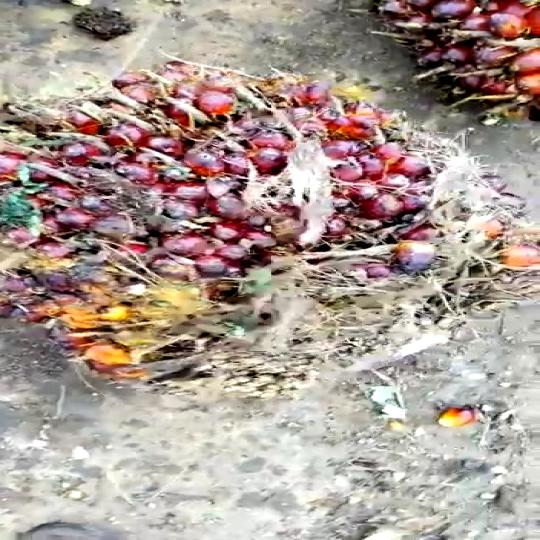masak: (0, 55, 511, 386)
